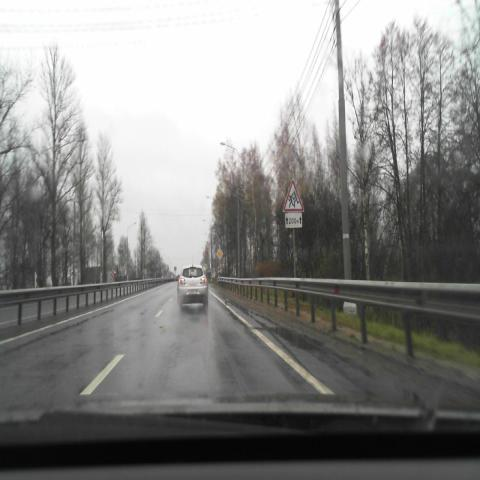8_2_1: (285, 213, 302, 228)
